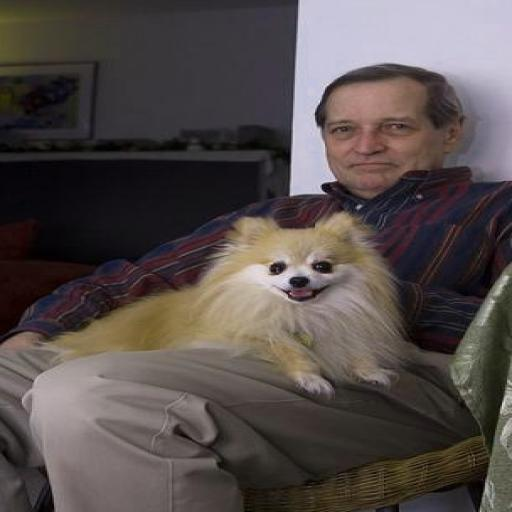dog_face: (226, 211, 372, 312)
